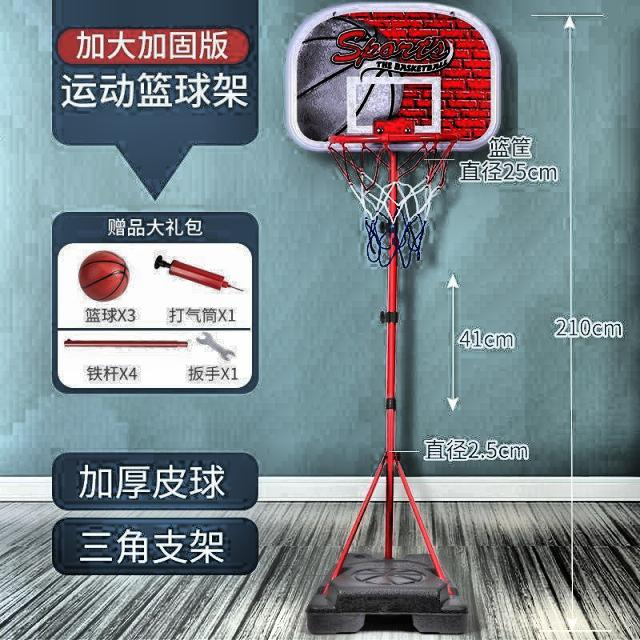board: (80, 251, 130, 301)
rim: (329, 134, 458, 266)
